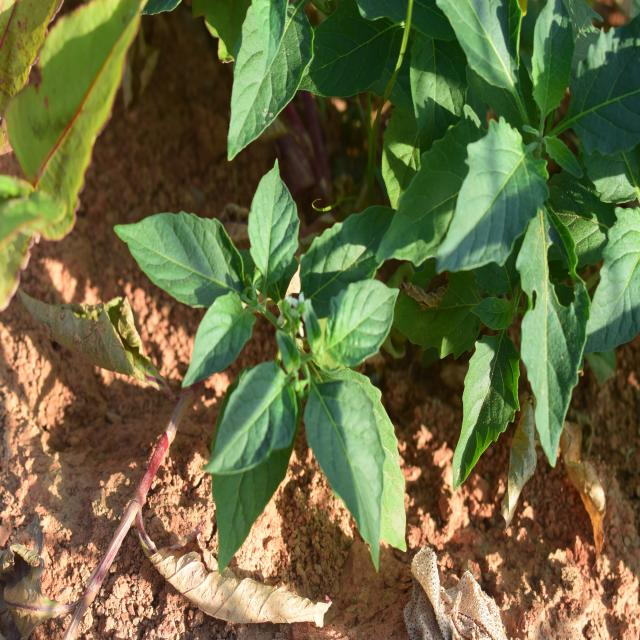Black_nightshade: (148, 175, 404, 547), (432, 3, 640, 452)
